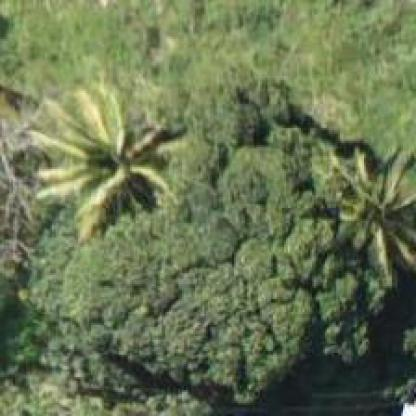coconut tree: (27, 79, 176, 241)
